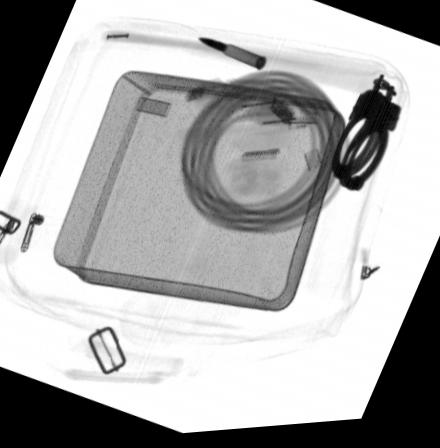Bullet: (198, 40, 268, 74)
HandCuffs: (331, 77, 403, 199)
